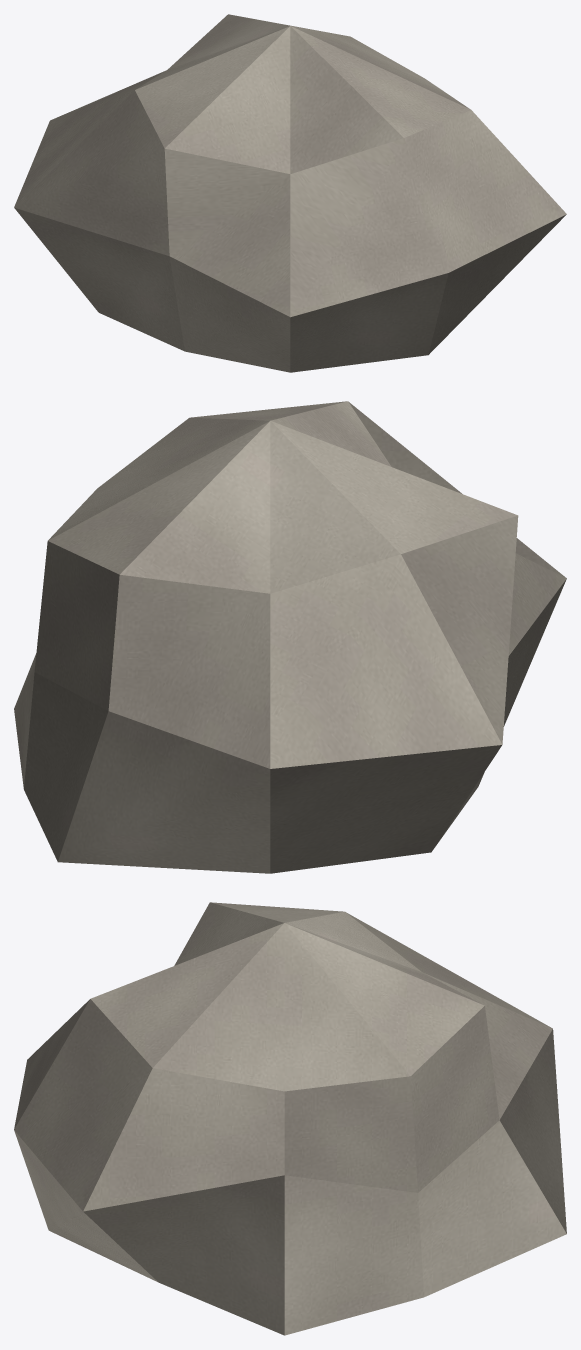
Rendered from rock.glb.
3 views of the same model, one above another, from view 1: azimuth 30°, elevation 25°; view 2: azimuth 150°, elevation 25°; view 3: azimuth 270°, elevation 25° (orthographic). The views are drawn at different scales.
Visible parts, largest first — view 1: NC_rock; view 2: NC_rock; view 3: NC_rock.
Boxes of the visible parts, x1,y1,x2,y2 form: NC_rock: (14,14,566,372); NC_rock: (14,401,566,873); NC_rock: (14,902,566,1335).
Bounding box in the file's own units: 0.9855 × 0.6 × 0.9885.
Materials: 1 (1 with a texture image).
